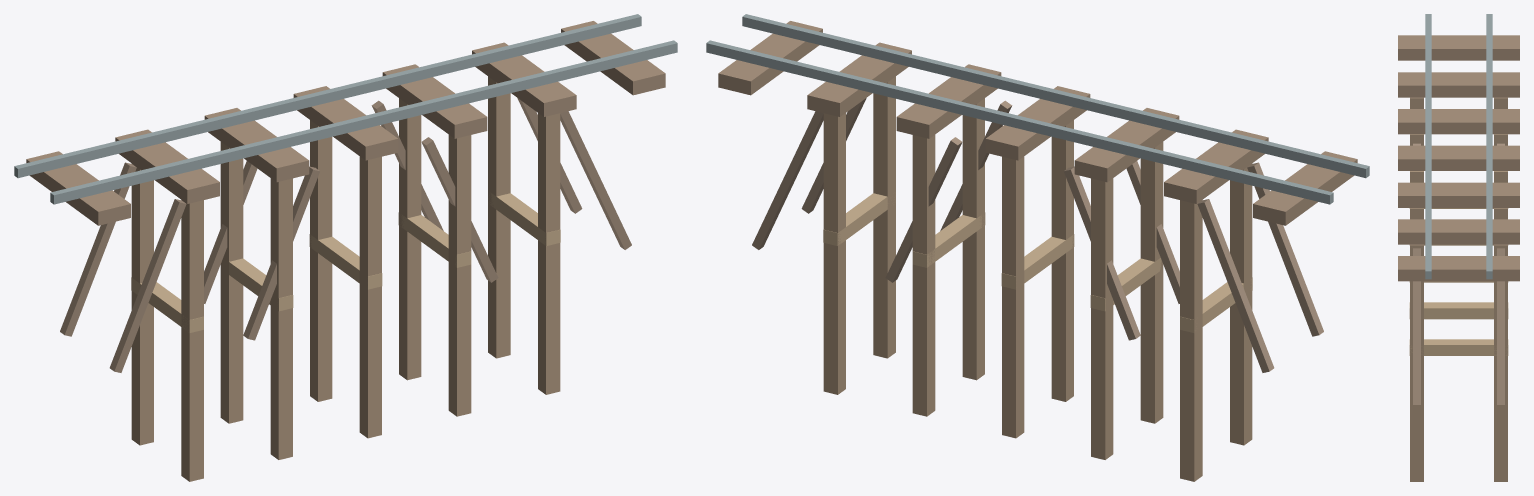
File: rail_bridge_far-DFHIDw1k.glb
The picture shows the model from 3 angles, left to right: view 1: azimuth 30°, elevation 25°; view 2: azimuth 150°, elevation 25°; view 3: azimuth 270°, elevation 25°; orthographic projection. The views are drawn at different scales.
Parts seen in each view (by area): view 1: rail_bridge_far; view 2: rail_bridge_far; view 3: rail_bridge_far.
Boxes of the visible parts, left/top/right/bottom form: rail_bridge_far: left=14, top=14, right=677, bottom=481; rail_bridge_far: left=706, top=14, right=1369, bottom=481; rail_bridge_far: left=1398, top=14, right=1519, bottom=481.
Bounding box in the file's own units: 21 × 10 × 4.2.
